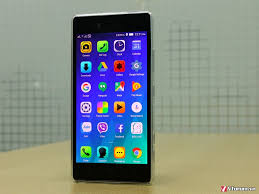lenovo: (67, 10, 156, 187)
